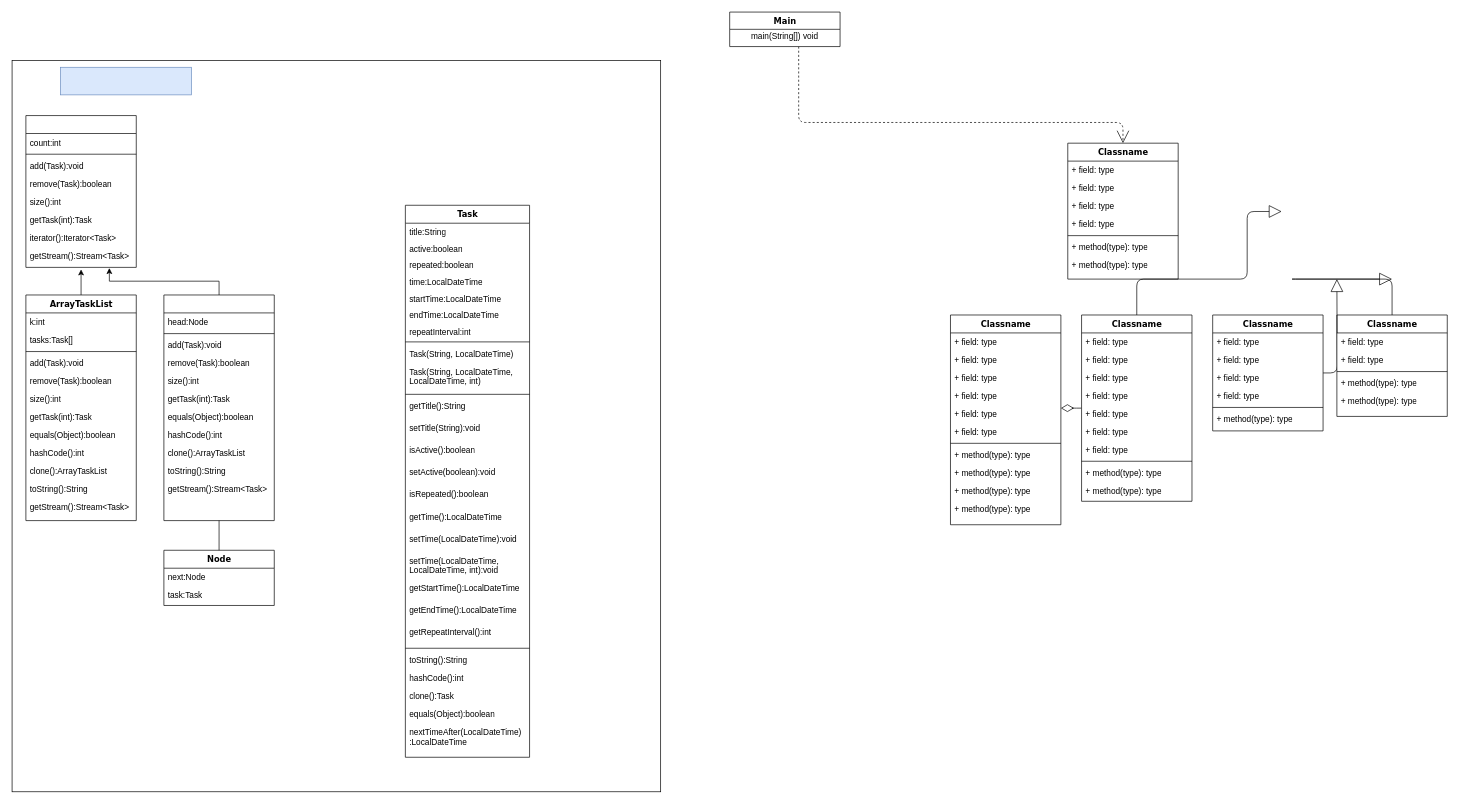
This 1459x804 diagram has some shape labels left out. Here are the shapes that lost their labels. From the top down, the box of each, then its label:
(60, 67, 191, 95): Package model
(25, 115, 136, 267): AbstractTaskList
(163, 294, 274, 521): LinkedTaskList
